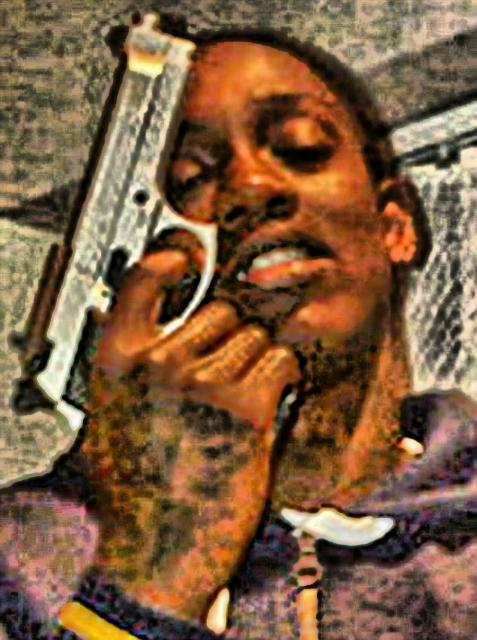pistol: (10, 8, 294, 464)
